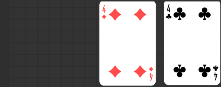4C: (165, 4, 173, 21)
4D: (101, 4, 108, 21)
